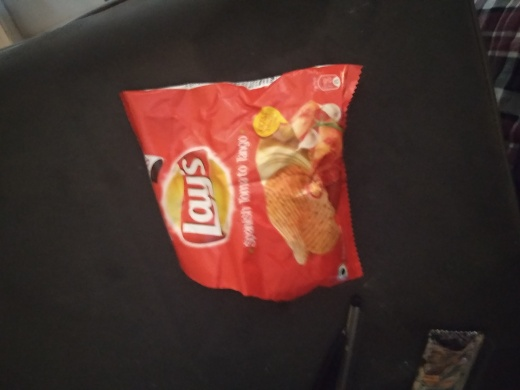lays: (103, 61, 389, 302)
